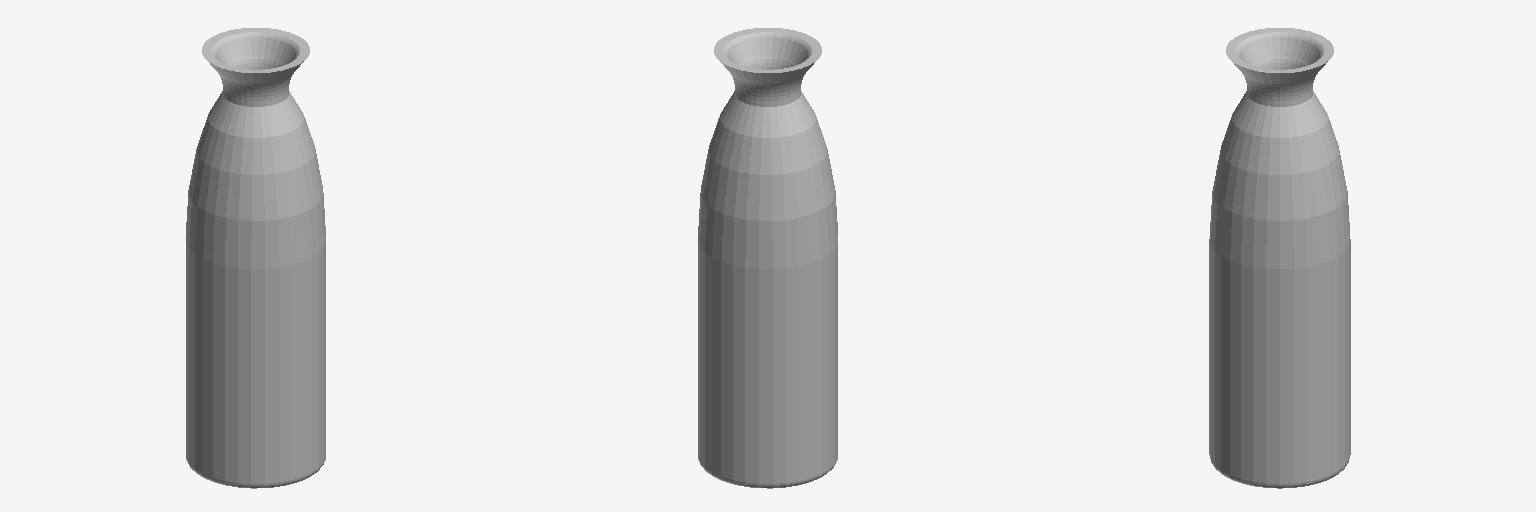
File: sake_bottle.obj
3 renders of one model, left to right at view 1: azimuth 30°, elevation 25°; view 2: azimuth 150°, elevation 25°; view 3: azimuth 270°, elevation 25°, orthographic.
Visible parts, largest first — view 1: Cylinder; view 2: Cylinder; view 3: Cylinder.
Boxes of the visible parts, x1,y1,x2,y2 form: Cylinder: [186, 28, 325, 488]; Cylinder: [698, 28, 837, 488]; Cylinder: [1209, 28, 1350, 488].
Size of the model in its own units: 2.86 by 9.18 by 2.86.